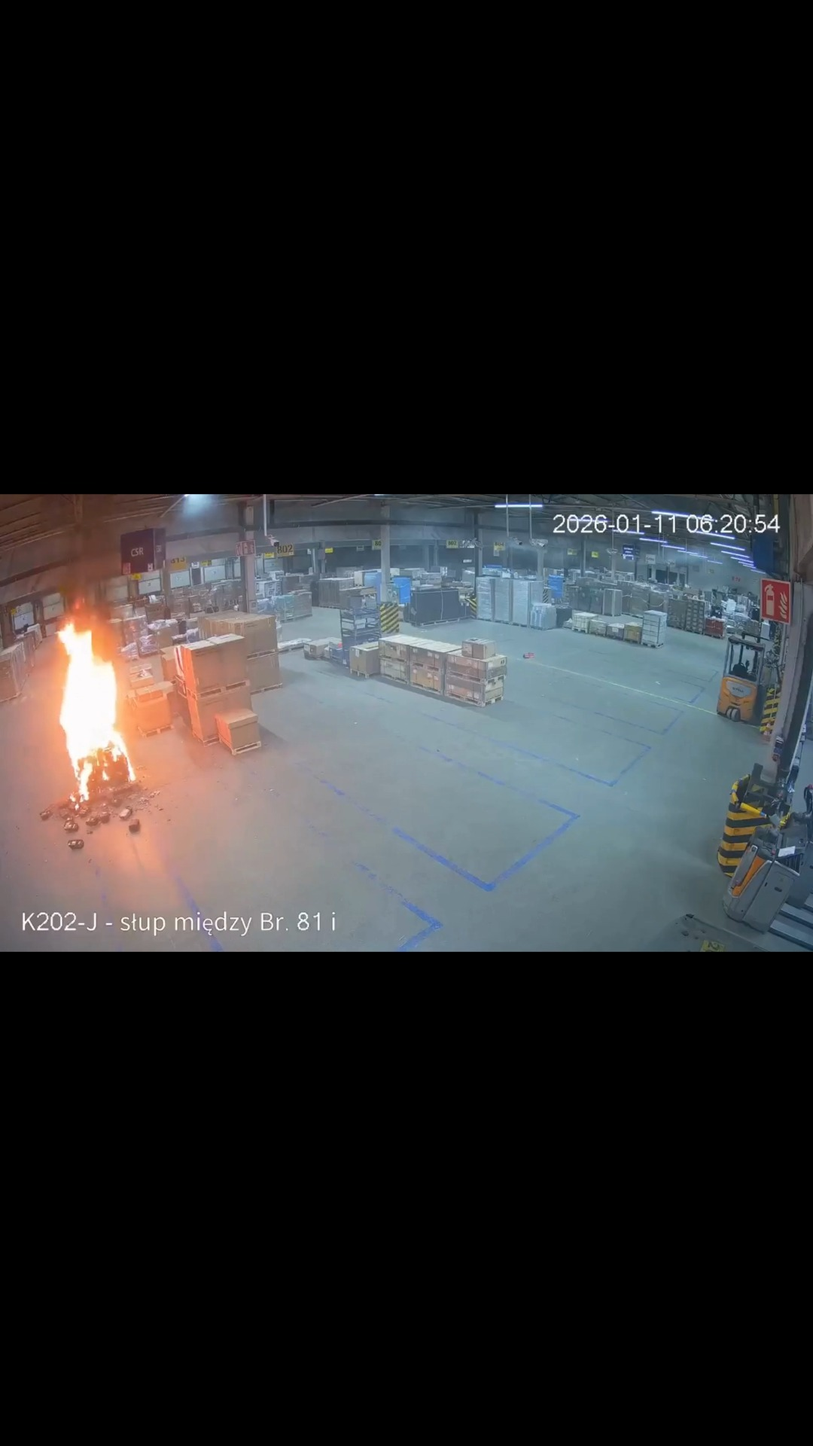fire: (55, 600, 139, 811)
smoke: (36, 495, 136, 633)
